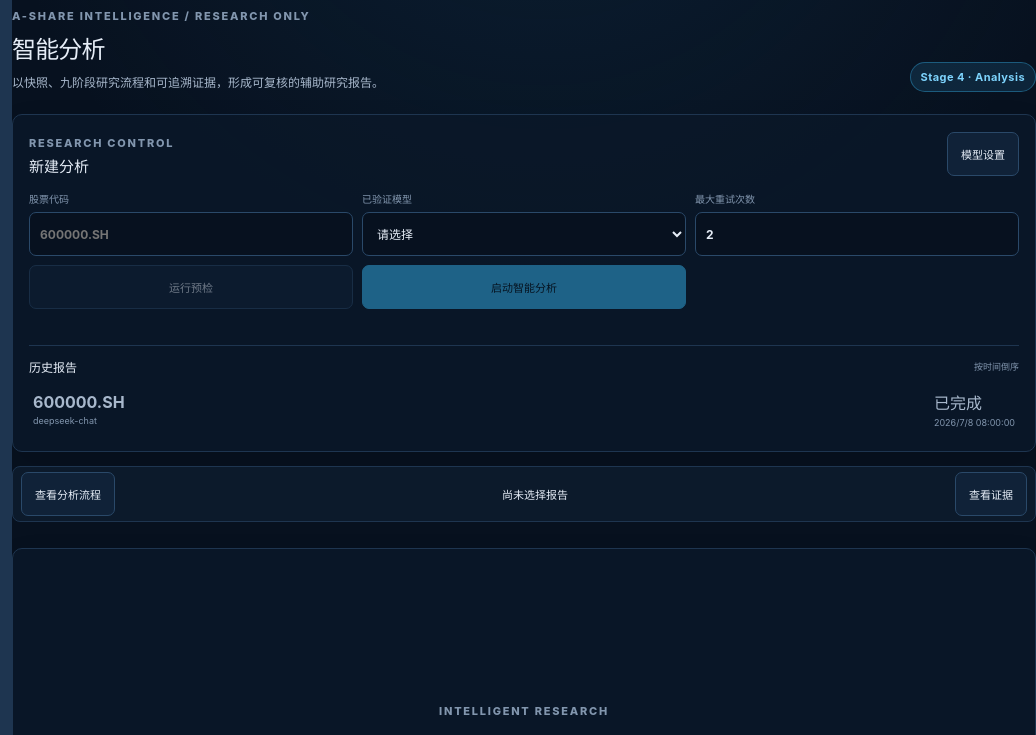
Test: omits rating for insufficient evidence and provides recovery actions
The image size is (1036, 735).
Click the button with aria-label "查看 600000.SH".
click(79, 402)  # box [29,383,1019,435]
(page scrolled)
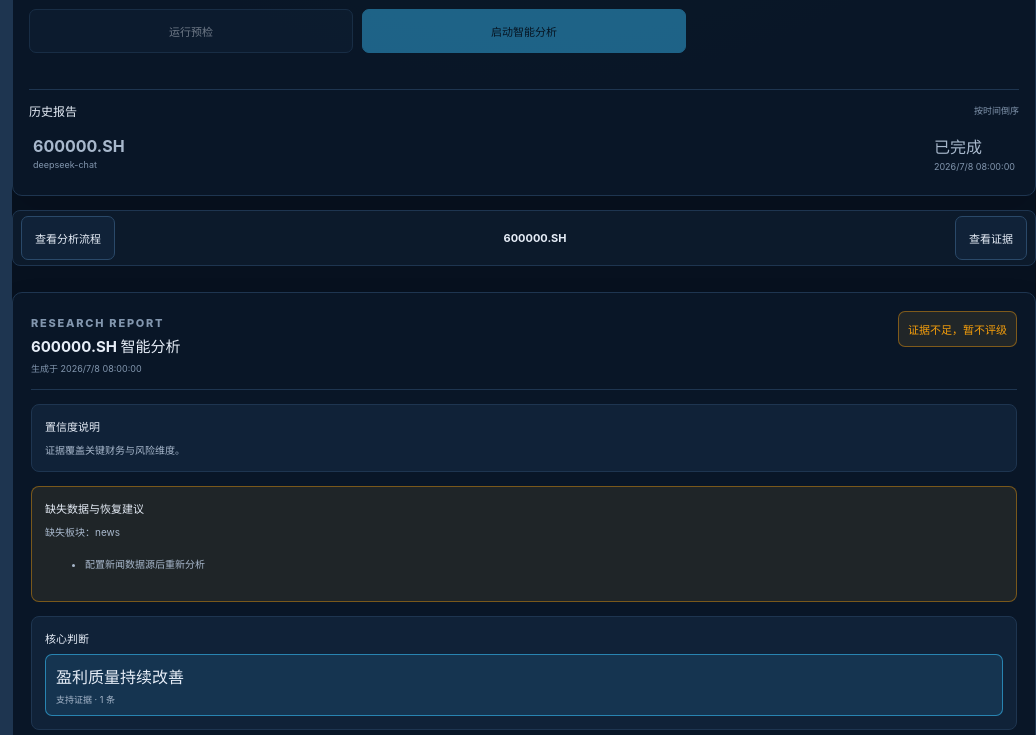
Result: the text "证据不足，暂不评级" is shown at [898,311,1017,347]
Result: the list item "配置新闻数据源后重新分析" is shown at [85,558,205,570]
